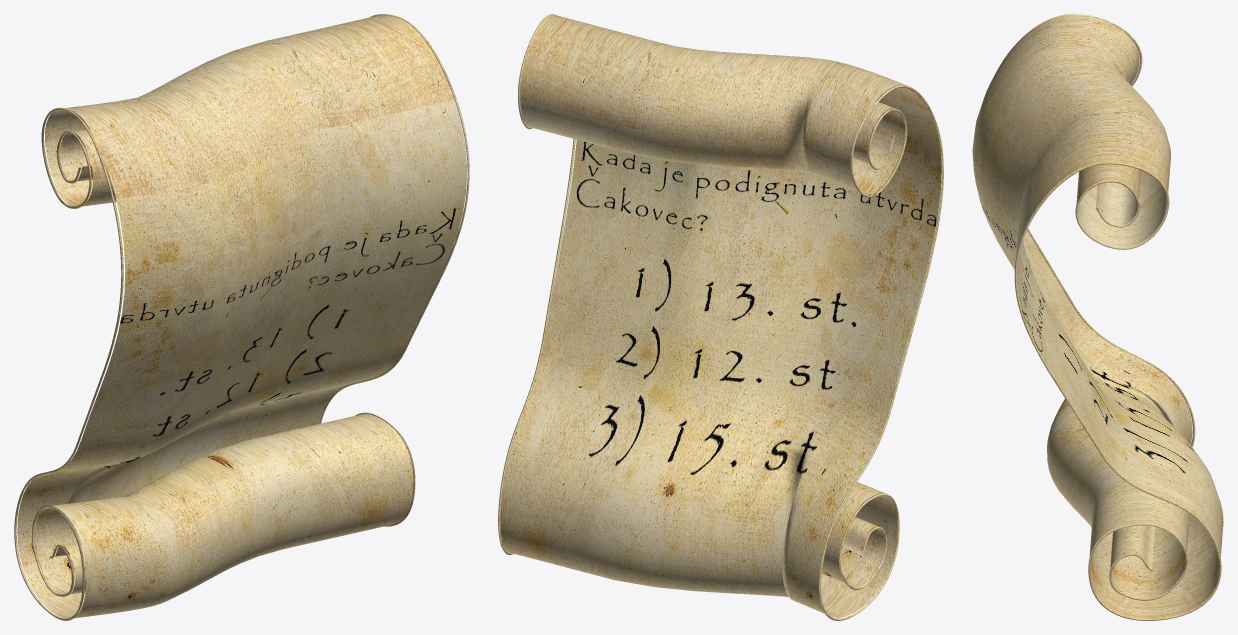
File: papir.fbx
3 renders of one model, left to right at view 1: azimuth 30°, elevation 25°; view 2: azimuth 150°, elevation 25°; view 3: azimuth 270°, elevation 25°, orthographic. The views are drawn at different scales.
Parts seen in each view (by area): view 1: scroll; view 2: scroll; view 3: scroll.
Part boxes in pixels (box(x1,y1,x2,y2)): scroll: box(14, 14, 469, 620); scroll: box(498, 14, 943, 620); scroll: box(972, 14, 1223, 620).
Bounding box in the file's own units: 76.94 × 105 × 51.66.
1 material, 1 textured.
